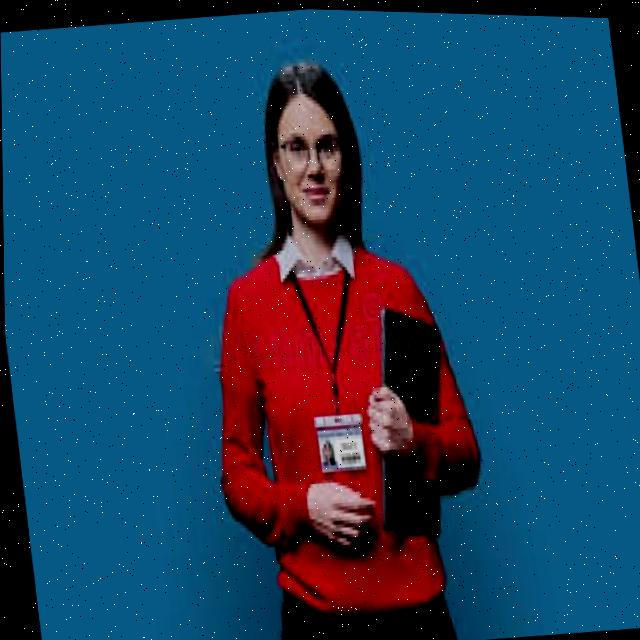id_card: (277, 254, 381, 478)
